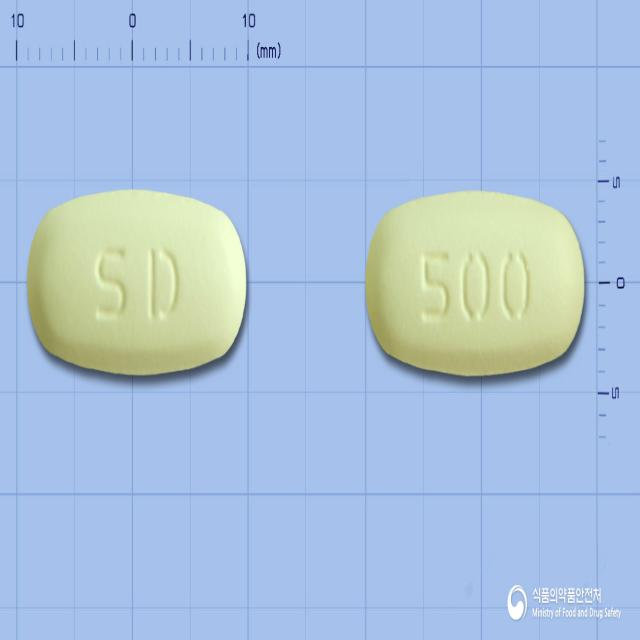Clabio: (24, 183, 252, 388), (361, 184, 589, 384)
